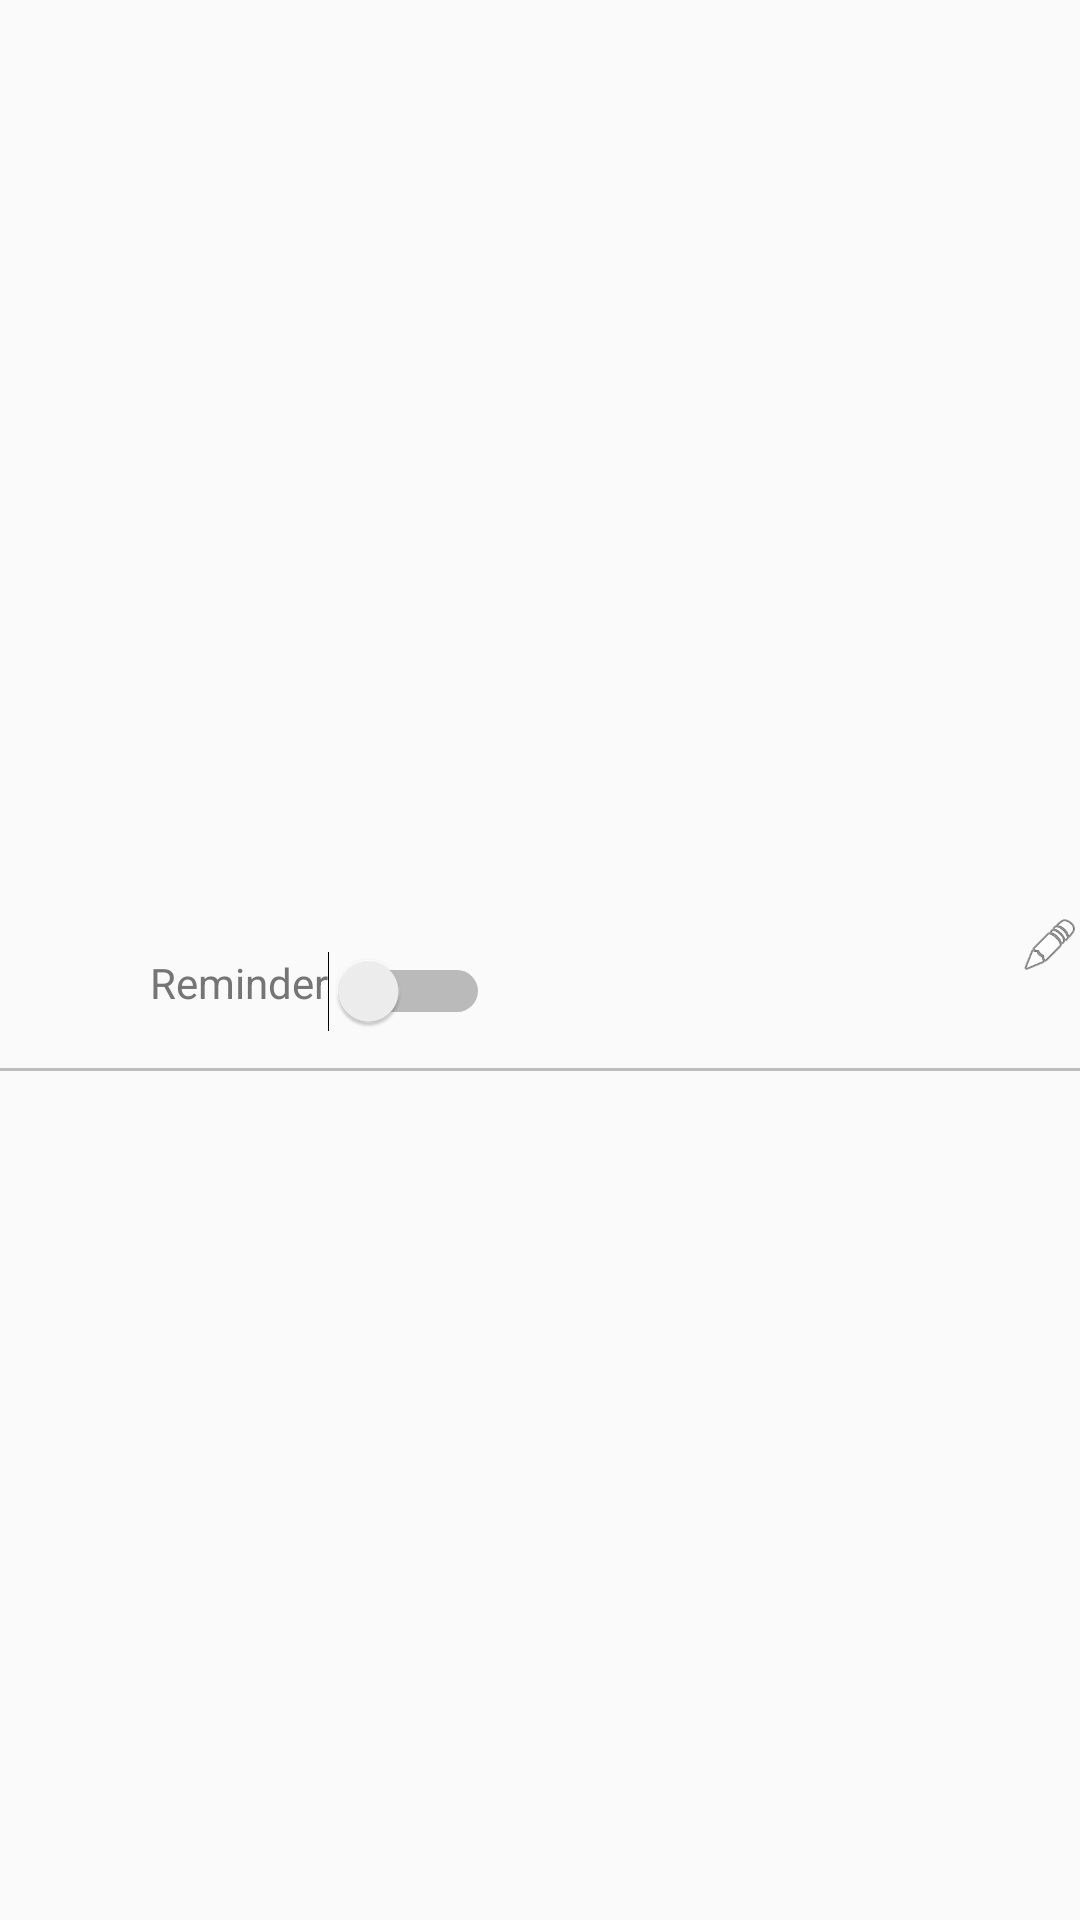

Point at icon controls on the screen. Image size 1080 × 1920, points as (x=x, y=y).
edit: (x=1049, y=944)
